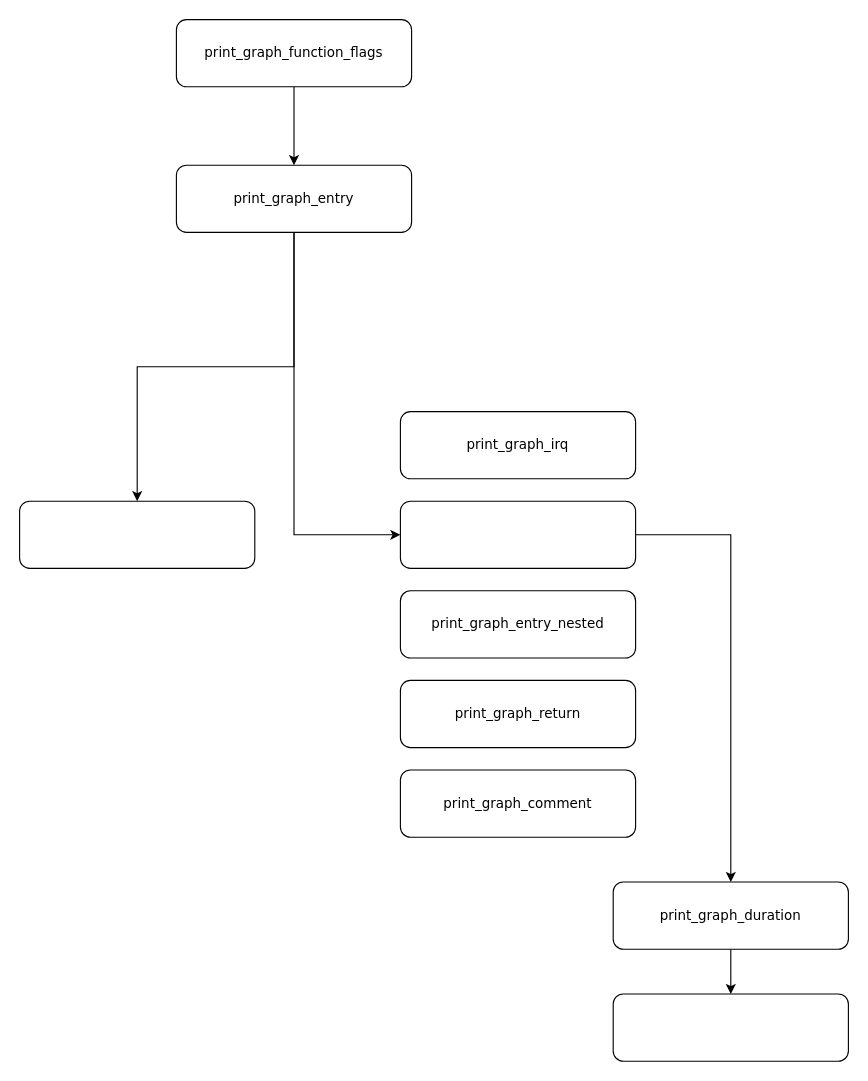
Image size: 868x1081. Some labels were removed from this diagram. The centre of each missing label's shape, as x and y in pixels:
get_return_for_leaf: pixel 136 534
print_graph_entry_leaf: pixel 517 534
trace_print_graph_duration: pixel 730 1027
